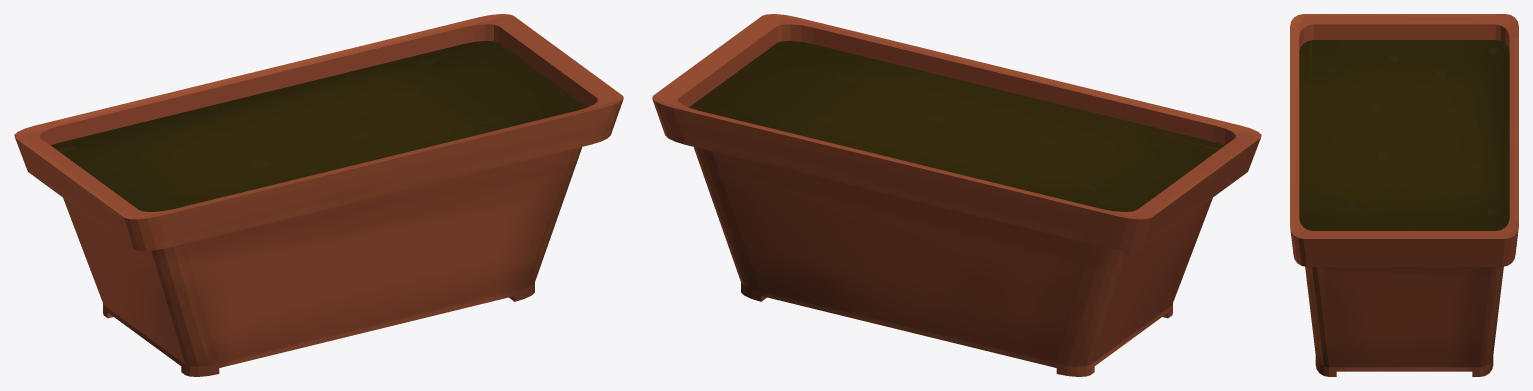
File: PlaintPot-2.fbx
3 views of the same model, side by side, from view 1: azimuth 30°, elevation 25°; view 2: azimuth 150°, elevation 25°; view 3: azimuth 270°, elevation 25° (orthographic). The views are drawn at different scales.
Visible parts, largest first — view 1: Cube.039; view 2: Cube.039; view 3: Cube.039.
Part boxes in pixels (bbox=[...]): Cube.039: bbox=[14, 14, 623, 376]; Cube.039: bbox=[652, 14, 1261, 376]; Cube.039: bbox=[1290, 14, 1518, 376].
Size of the model in its own units: 2255 by 803 by 970.
